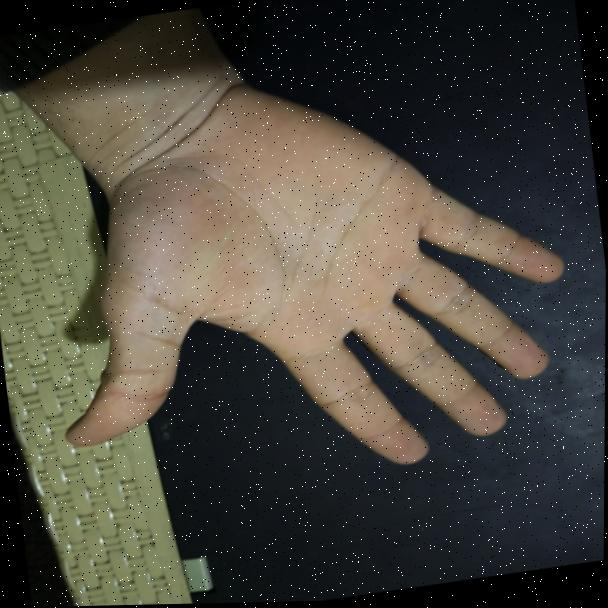five: (20, 92, 584, 514)
